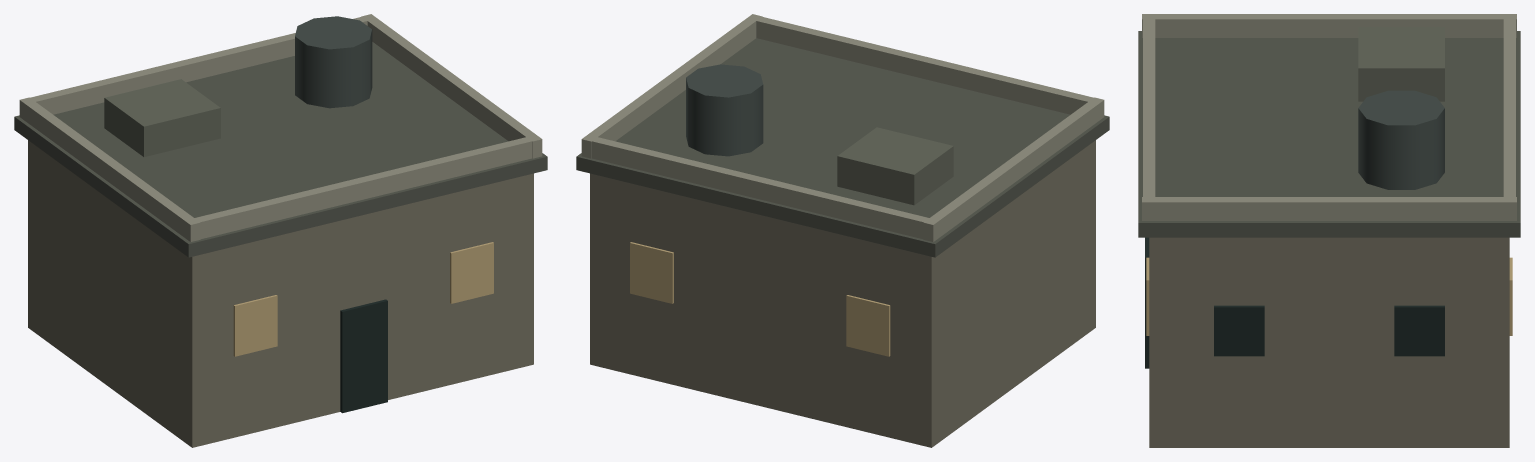
File: house.glb
The picture shows the model from 3 angles, left to right: view 1: azimuth 30°, elevation 25°; view 2: azimuth 150°, elevation 25°; view 3: azimuth 270°, elevation 25°; orthographic projection. The views are drawn at different scales.
Parts seen in each view (by area): view 1: house; view 2: house; view 3: house.
Part boxes in pixels (x1,y1,x2,y2): house: [14, 14, 547, 447]; house: [576, 14, 1109, 447]; house: [1138, 14, 1520, 447].
Bounding box in the file's own units: 12.6 × 9 × 10.6.
